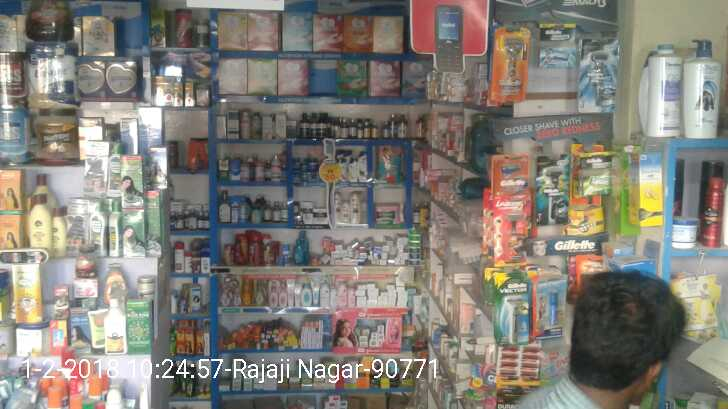beauty: (493, 208, 525, 257), (496, 290, 525, 342), (544, 164, 563, 223), (581, 166, 613, 195), (350, 192, 362, 223), (358, 152, 368, 179), (300, 202, 312, 224), (311, 208, 328, 223), (347, 159, 358, 181), (341, 199, 350, 222), (306, 157, 321, 170), (292, 173, 303, 188), (303, 173, 320, 182), (291, 157, 301, 170)
pharmacy: (375, 144, 403, 181), (372, 202, 400, 224)
